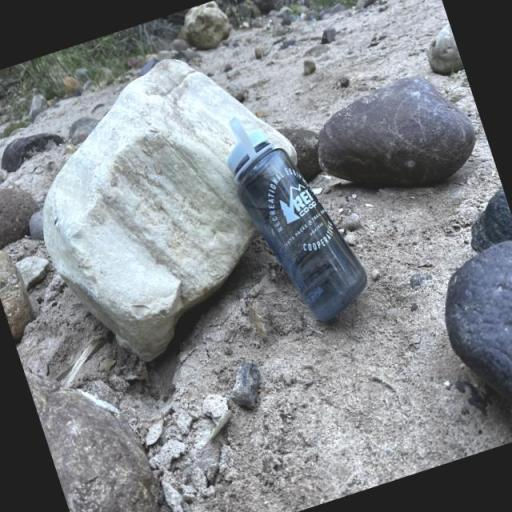bottle: (214, 92, 379, 339)
